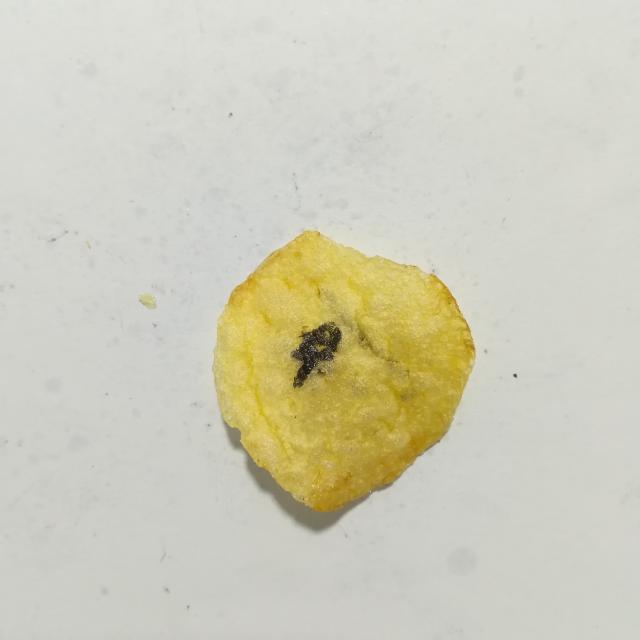chip: (213, 231, 475, 511)
damaged: (291, 322, 342, 387)
